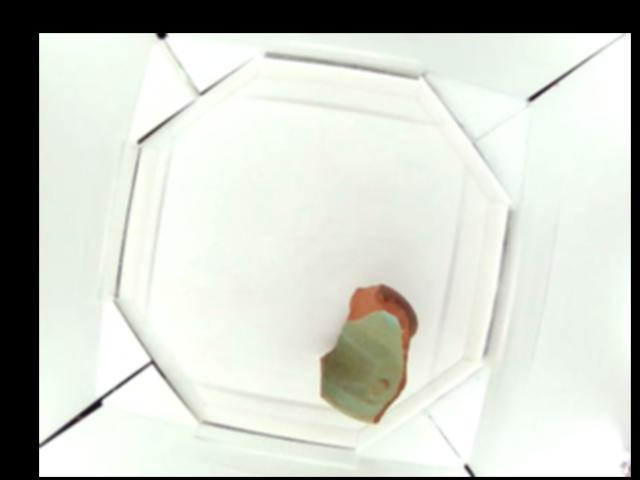China: (319, 281, 422, 426)
